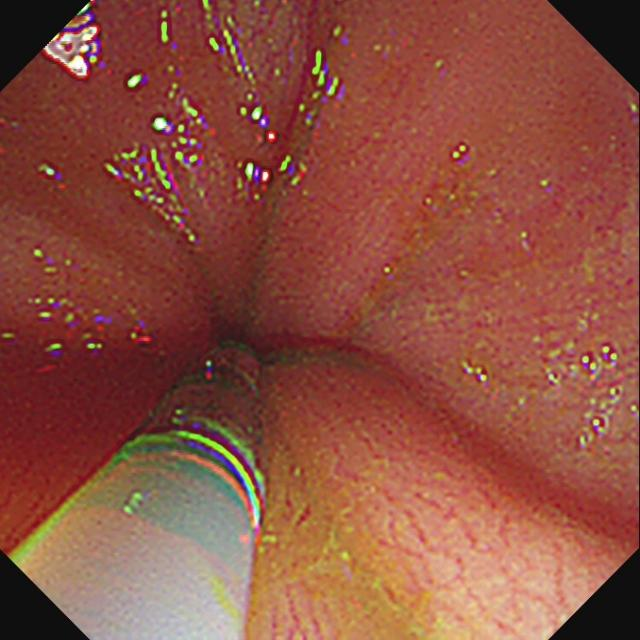K: (11, 339, 268, 640)
T: (569, 343, 625, 450)
U: (2, 250, 155, 373), (200, 2, 281, 145), (107, 139, 198, 247), (152, 82, 215, 171), (40, 3, 104, 82), (238, 155, 309, 197), (309, 48, 343, 100), (158, 6, 173, 46), (36, 160, 59, 184), (125, 73, 147, 93)
